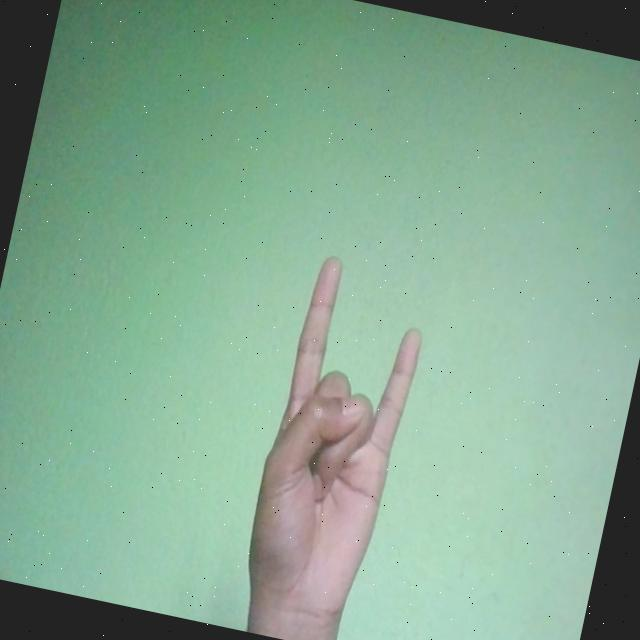open Plam: (232, 248, 437, 636)
